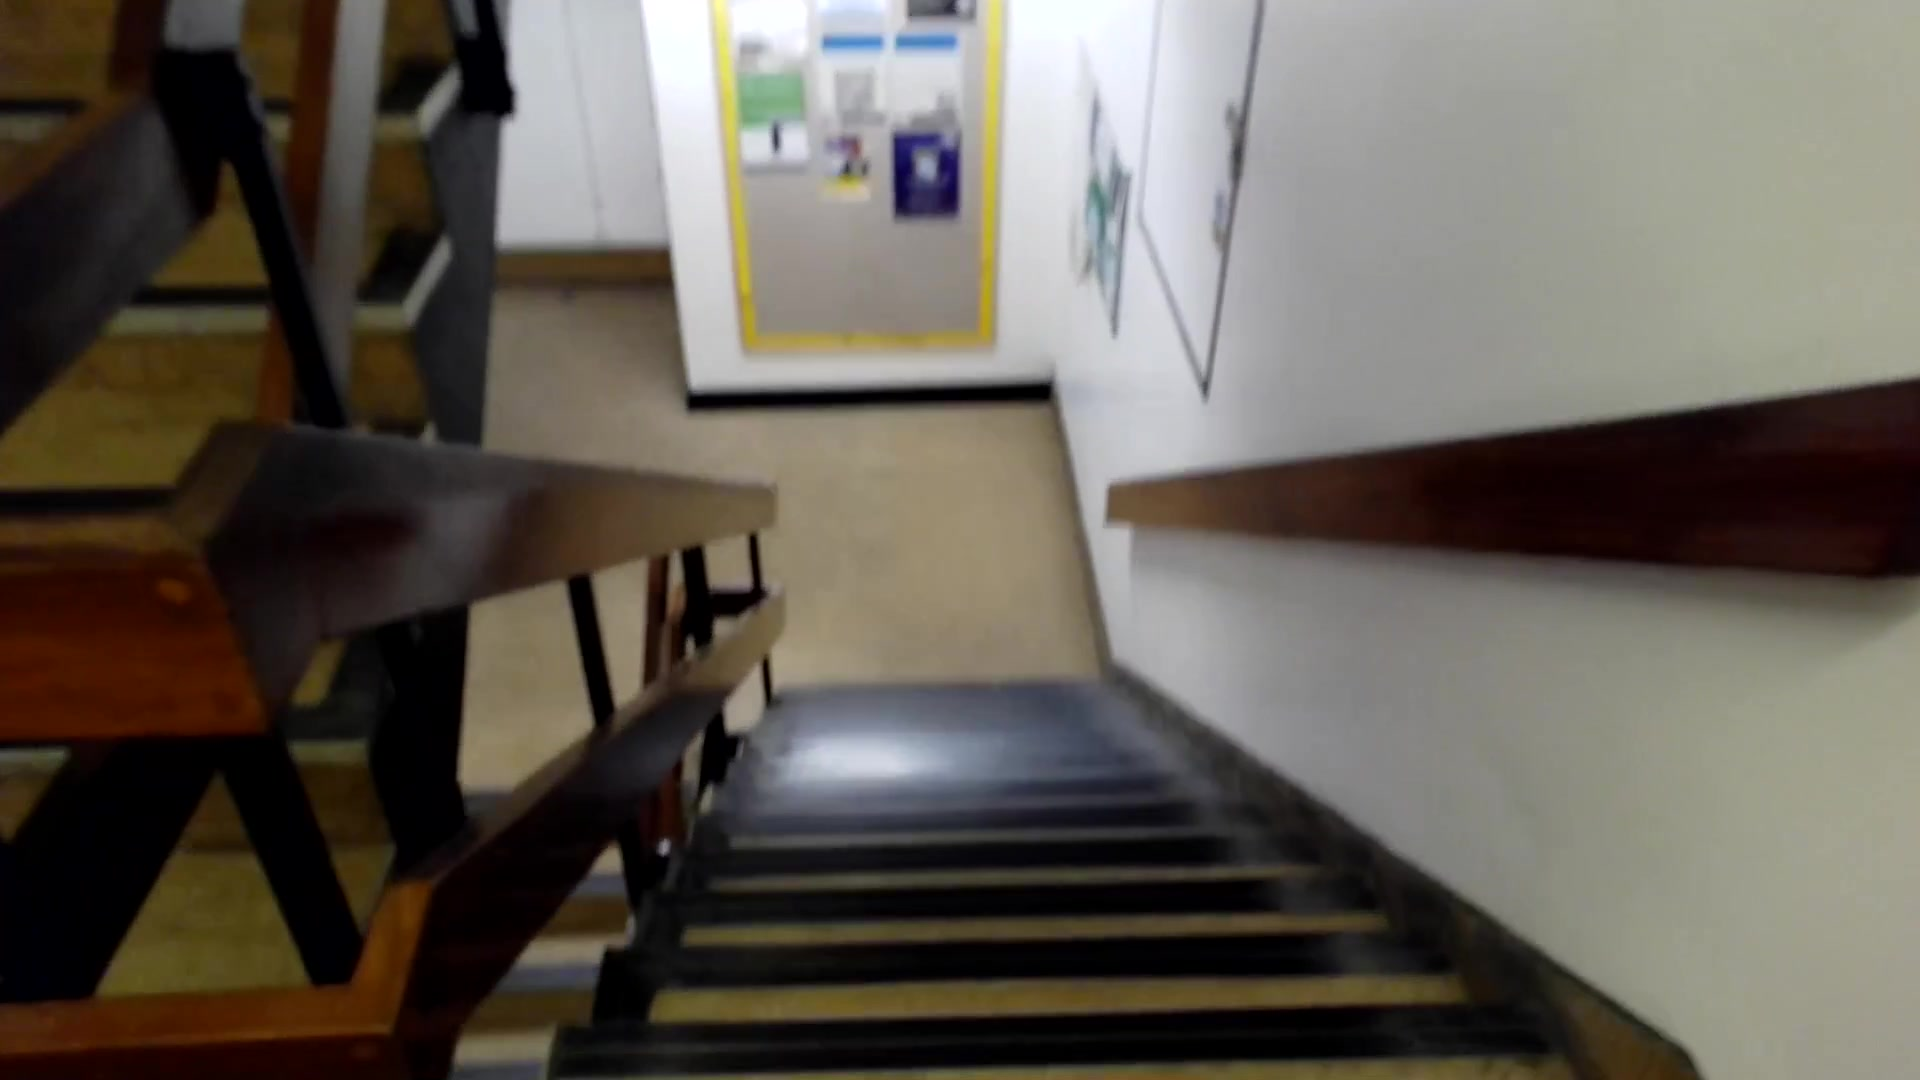Stairs: (700, 659, 1571, 1080)
